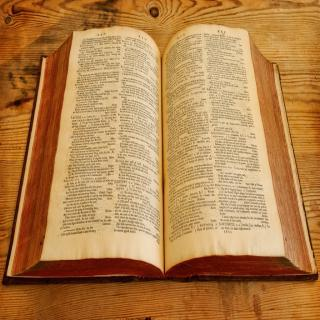book: (2, 24, 320, 284)
